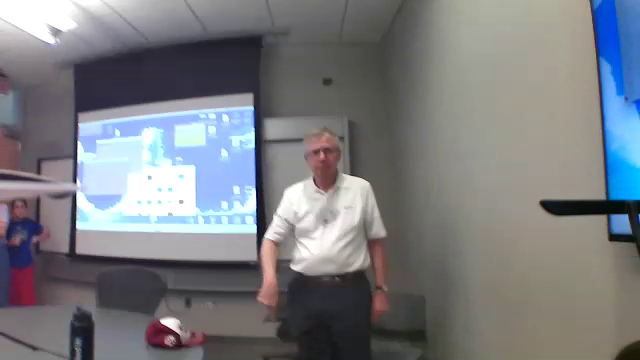down: (253, 274, 282, 327)
